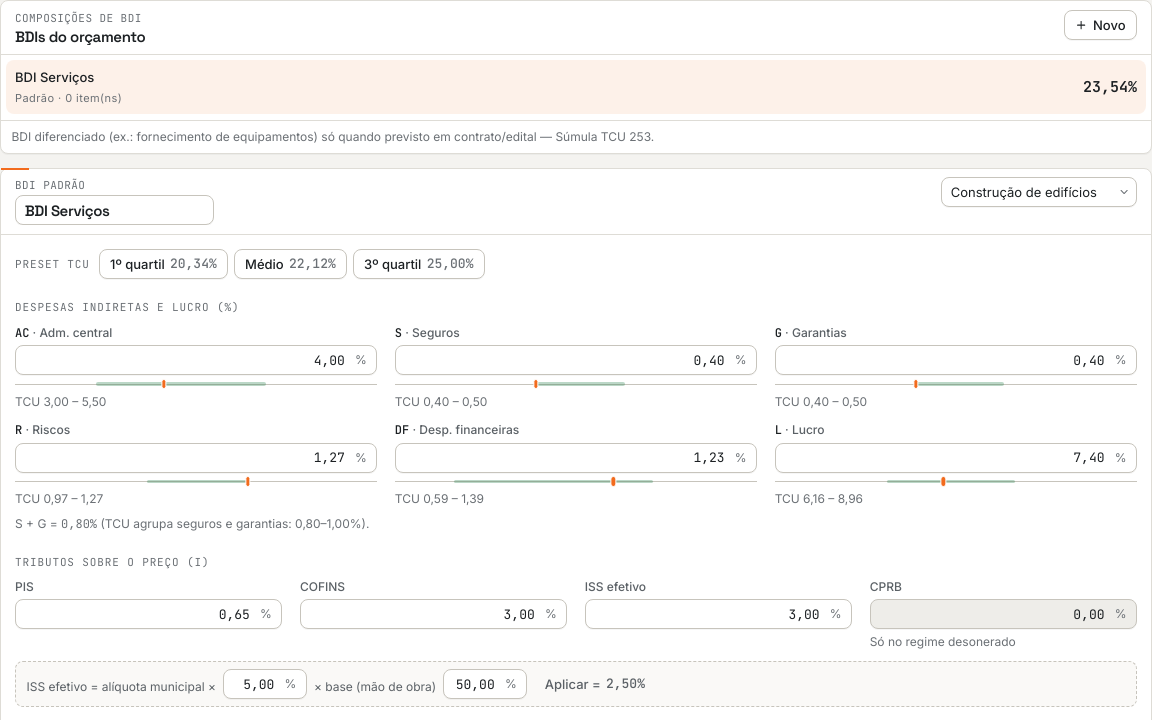
Scenario: OrcamentoBdiPage › tributos ≥ 100% mostram erro e bloqueiam a gravação
The image size is (1152, 720).
Replace the text in the field labelled "ISS efetivo" with "97" at (718, 614), box [585, 599, 852, 629]
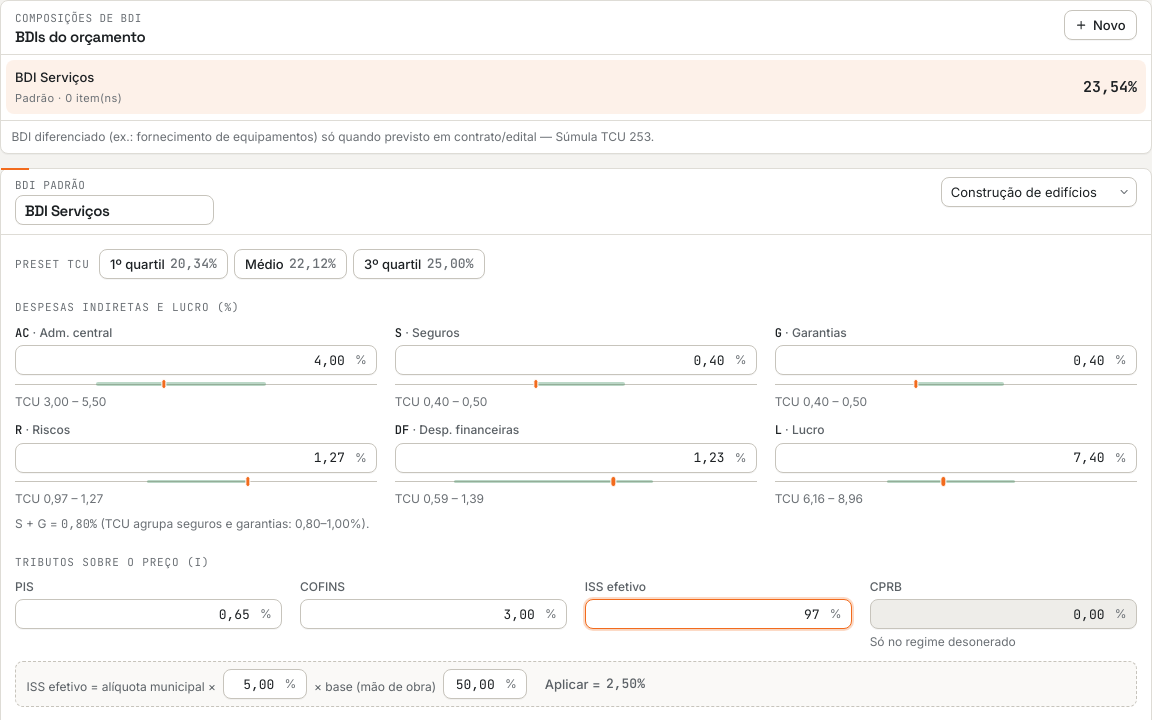
Leave the field labelled "ISS efetivo", box [585, 599, 852, 629]
(page scrolled)
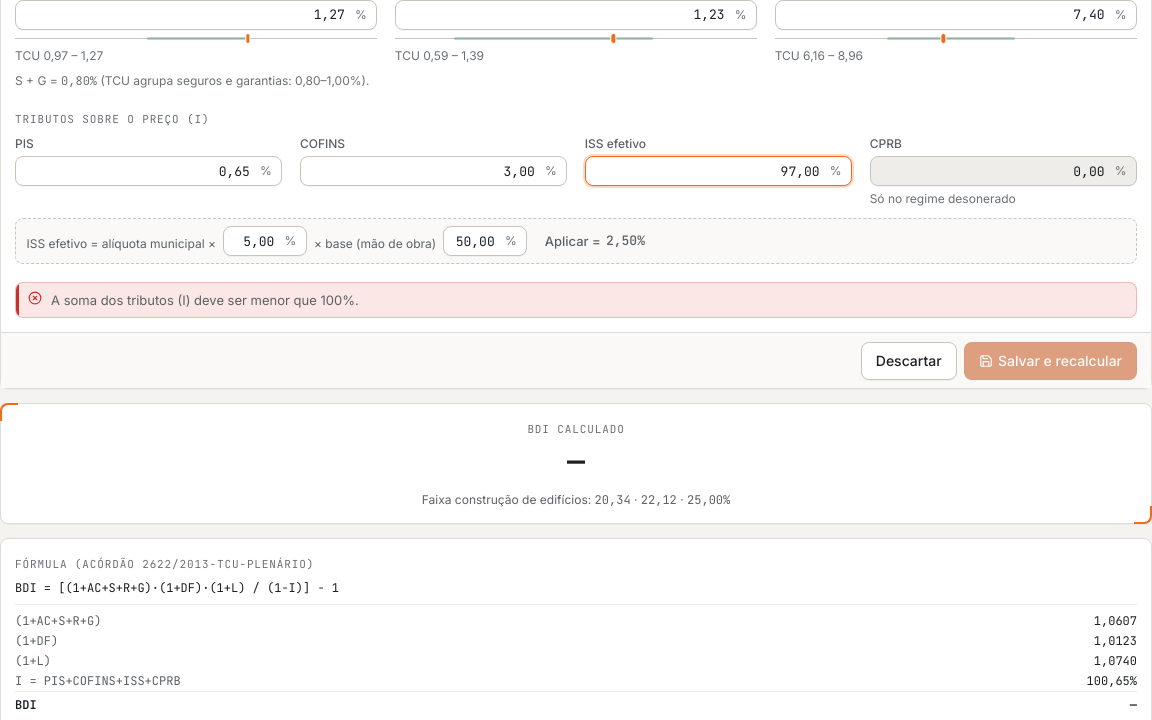
expect the button "Salvar e recalcular" is disabled: met, box [964, 342, 1137, 380]
expect the text "A soma dos tributos (I) deve ser menor que 100%." is shown: met, box [51, 292, 359, 308]
